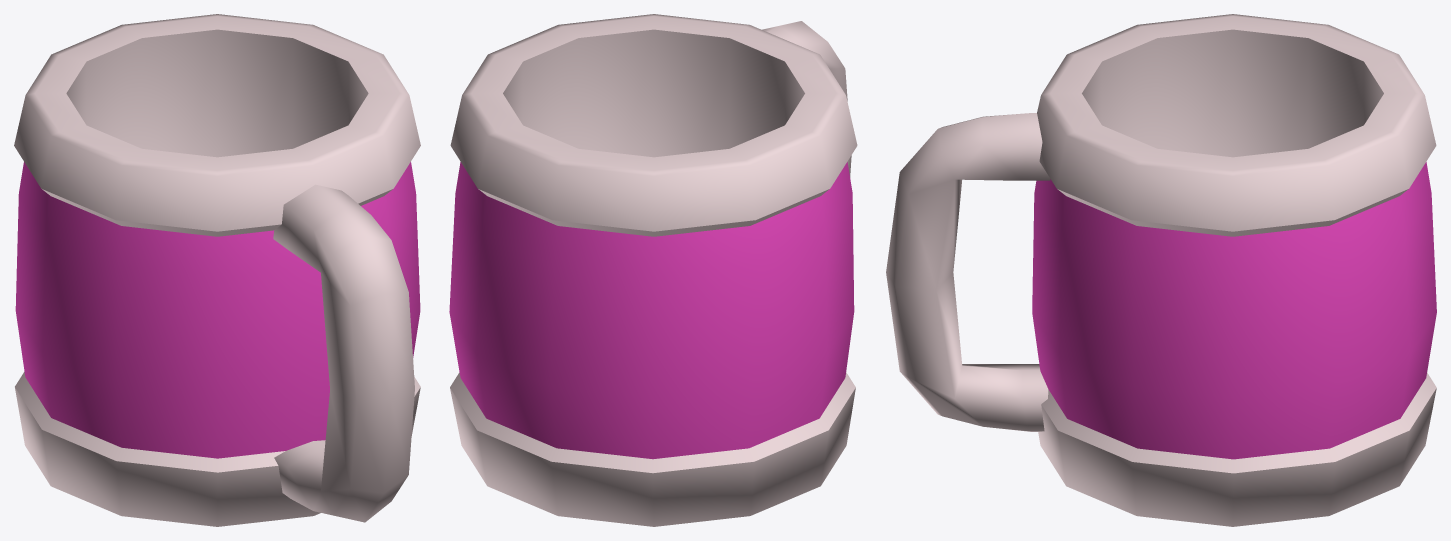
Rendered from Mug.fbx.
3 renders of one model, left to right at view 1: azimuth 30°, elevation 25°; view 2: azimuth 150°, elevation 25°; view 3: azimuth 270°, elevation 25°, orthographic.
Parts seen in each view (by area): view 1: Mug; view 2: Mug; view 3: Mug.
Boxes of the visible parts, x1,y1,x2,y2 form: Mug: [14, 14, 420, 526]; Mug: [449, 14, 857, 526]; Mug: [886, 14, 1436, 526].
Bounding box in the file's own units: 0.1805 × 0.2441 × 0.1721.
